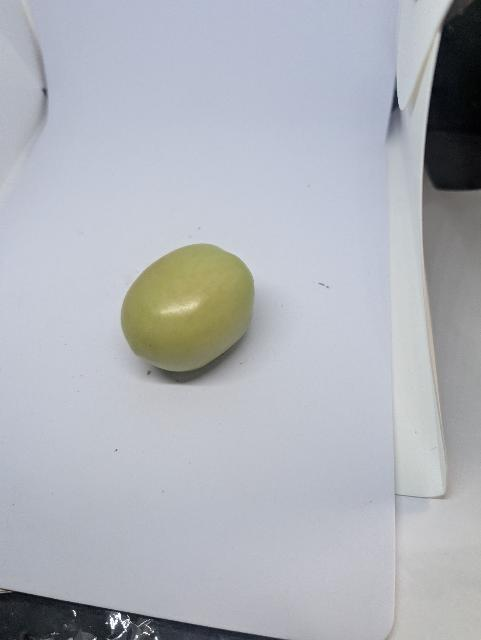green: (118, 240, 259, 374)
